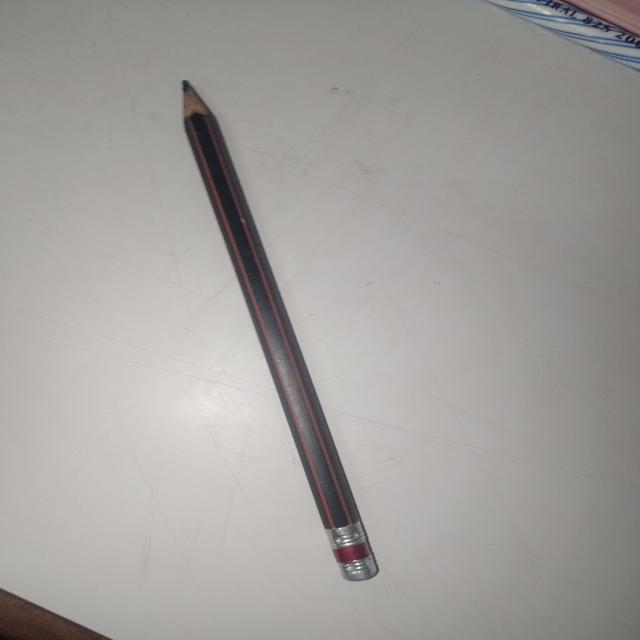pen_pencil: (129, 32, 434, 630)
